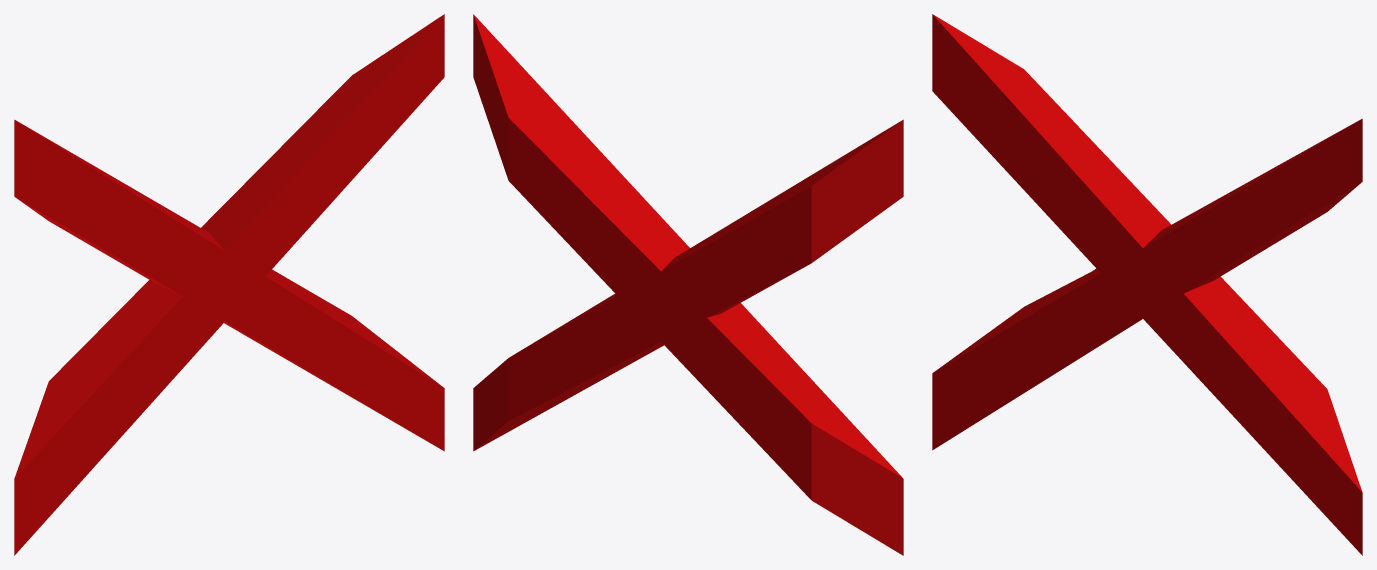
The model's file is Cross.obj.
3 renders of one model, left to right at view 1: azimuth 30°, elevation 25°; view 2: azimuth 150°, elevation 25°; view 3: azimuth 330°, elevation 25°, orthographic.
Visible parts, largest first — view 1: Mesh; view 2: Mesh; view 3: Mesh.
Part boxes in pixels (<box>): Mesh: <box>14,14,444,555</box>; Mesh: <box>473,14,903,555</box>; Mesh: <box>932,14,1362,555</box>.
Size of the model in its own units: 0.2948 by 0.2865 by 0.0341.
